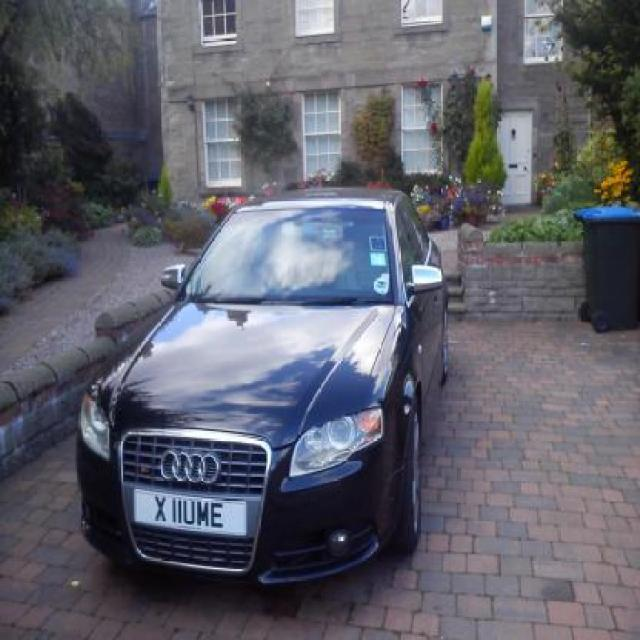License-Plates: (128, 479, 252, 548)
